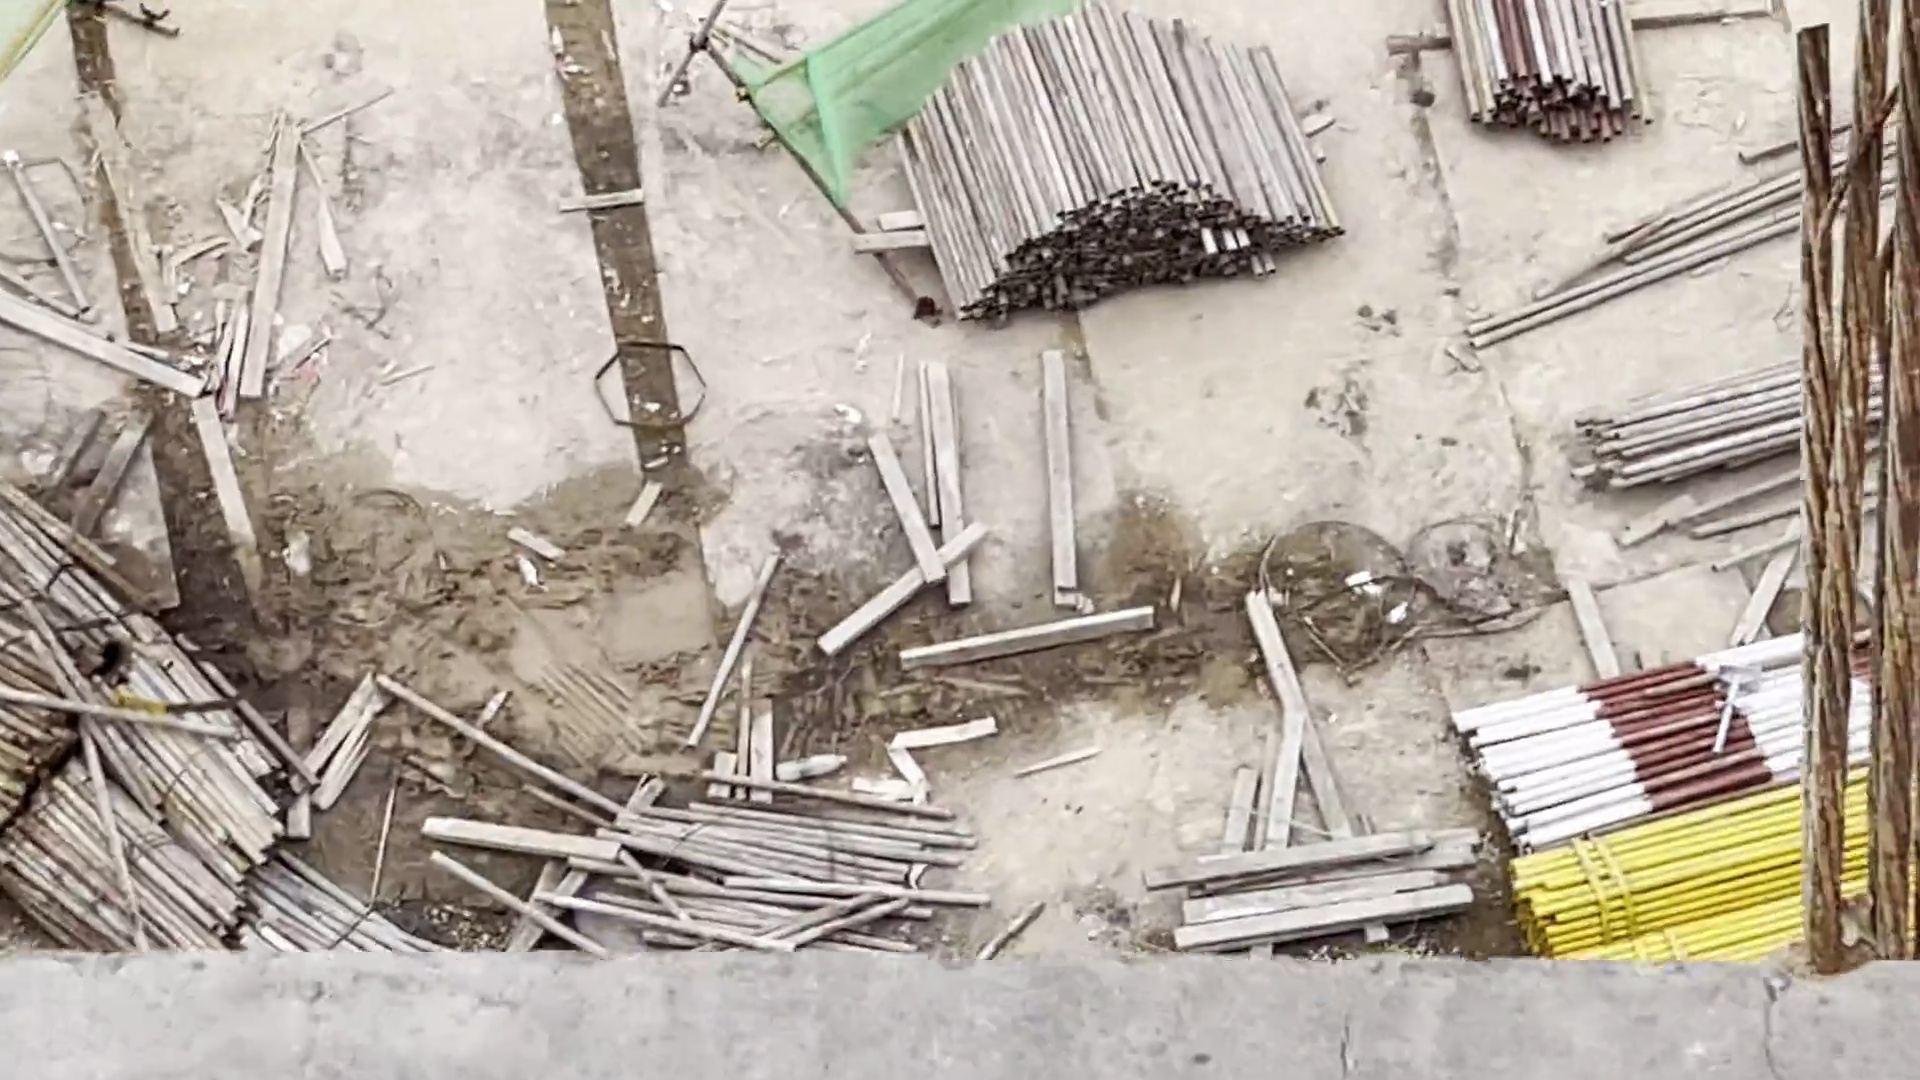wood: (893, 1, 1342, 322), (82, 607, 318, 843), (4, 783, 240, 957), (1567, 349, 1818, 508), (1, 524, 129, 804), (1456, 1, 1654, 152)
